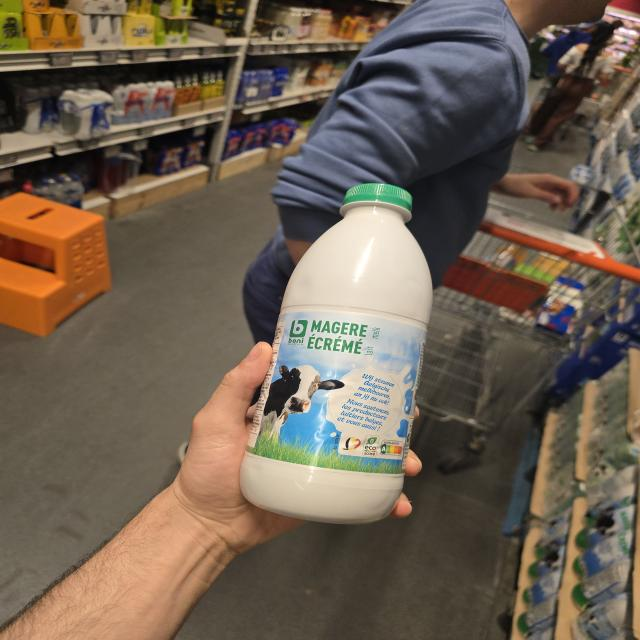Milk: (240, 183, 432, 523)
